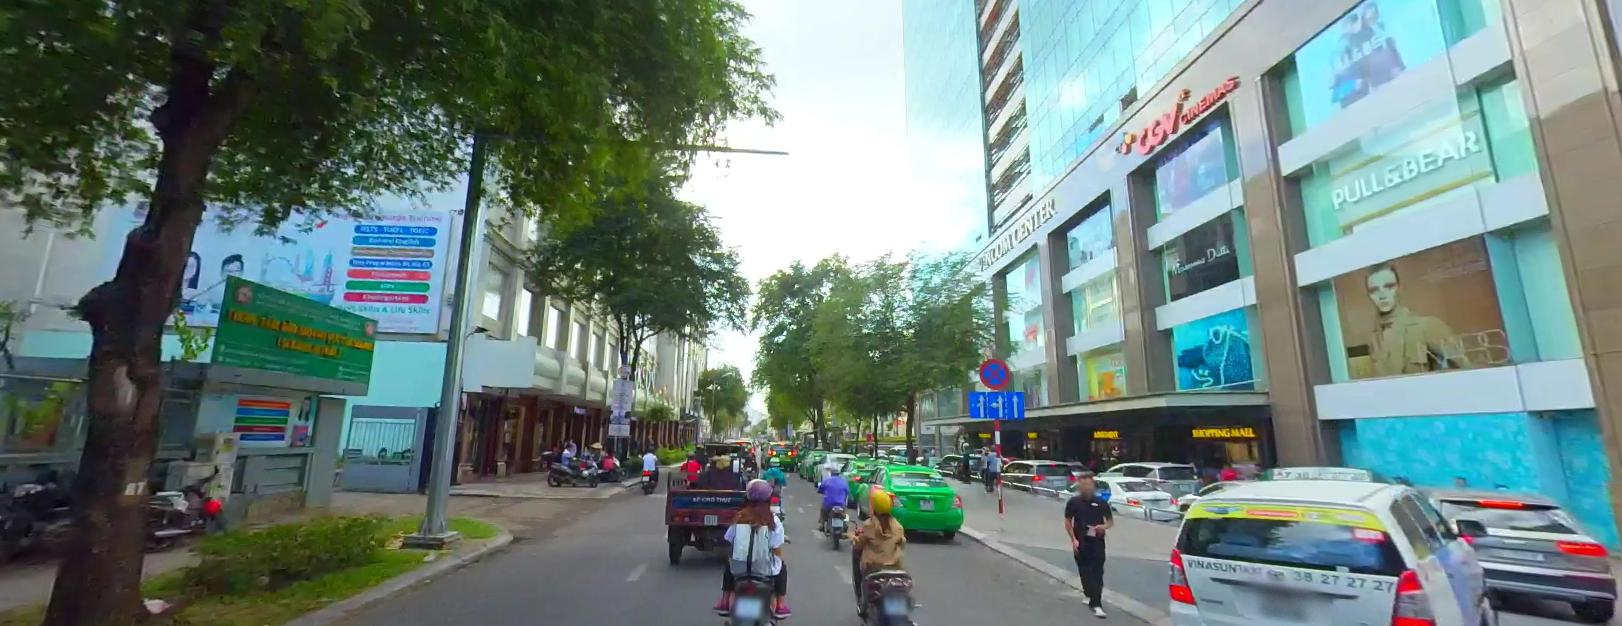Cam dung va do: (977, 356, 1011, 388)
